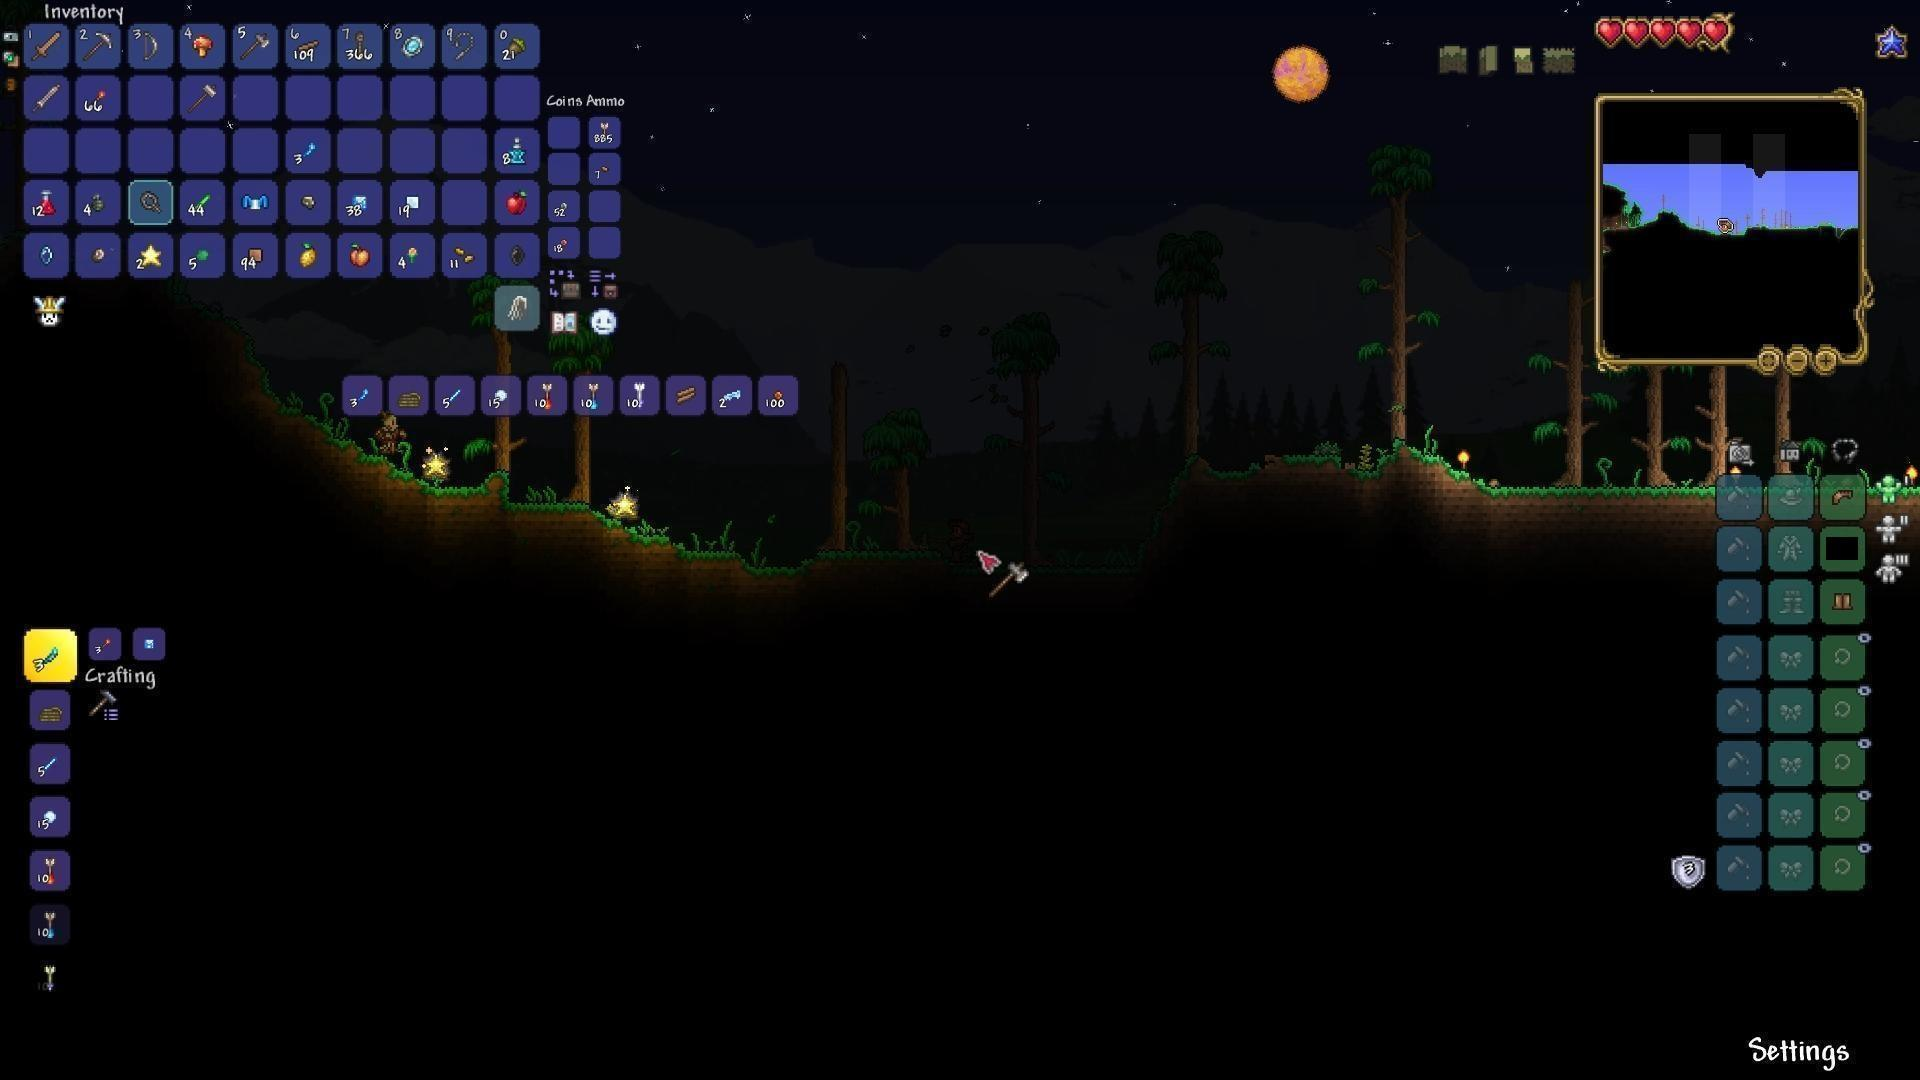helmet: (1825, 480, 1859, 512)
legs: (1830, 588, 1855, 617)
wood: (673, 381, 703, 409)
